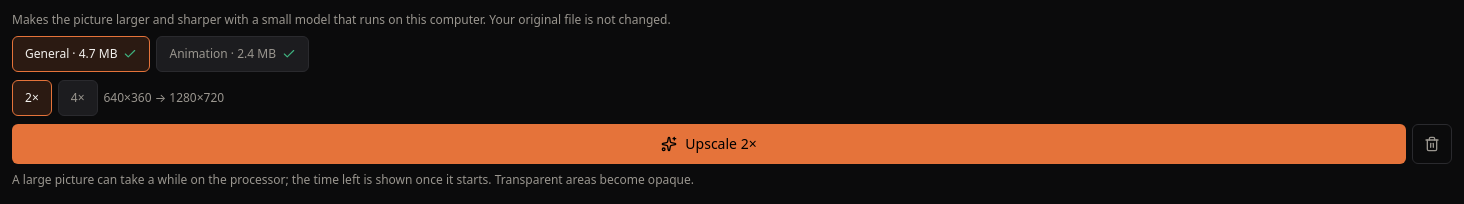
Test case: the Upscale with AI panel › upscales with the chosen model and size, then the clip uses the result (one undo step)
Click the radio button labelled "4×".
click(78, 98)  # box [58,80,98,116]
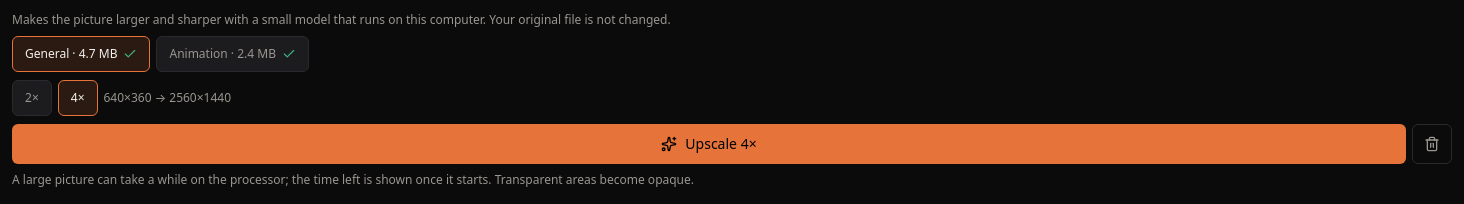
Check: the text "640×360 → 2560×1440" is shown, box [104,90,231,106]
Click the radio button labelled "Animation · 2.4 MB".
click(233, 54)  # box [156,36,309,72]
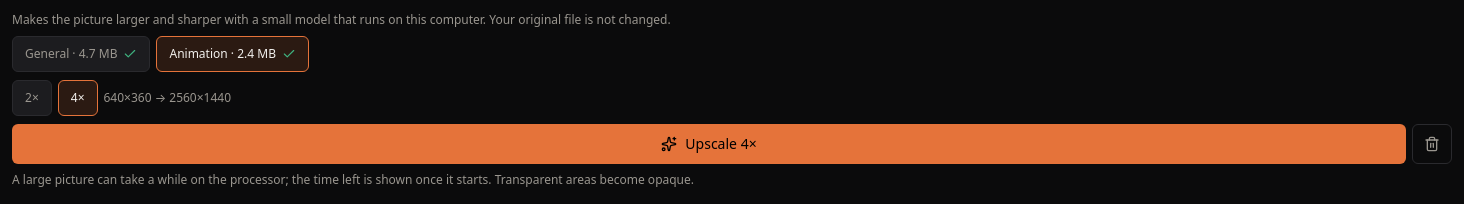
Click the button "Upscale 4×".
click(709, 144)  # box [12,124,1406,164]
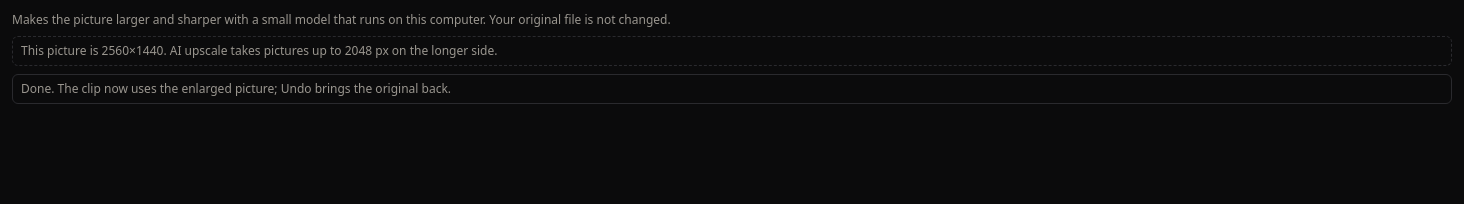
Check: the message shows "now uses the enlarged picture", box [21,80,451,97]
